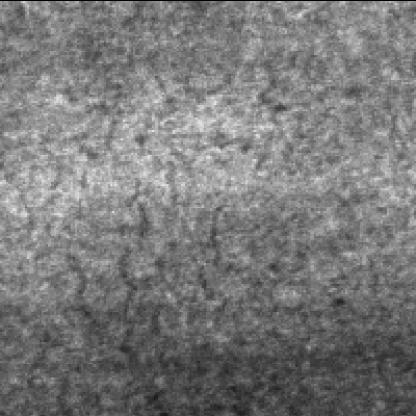crazing: (65, 194, 176, 372)
